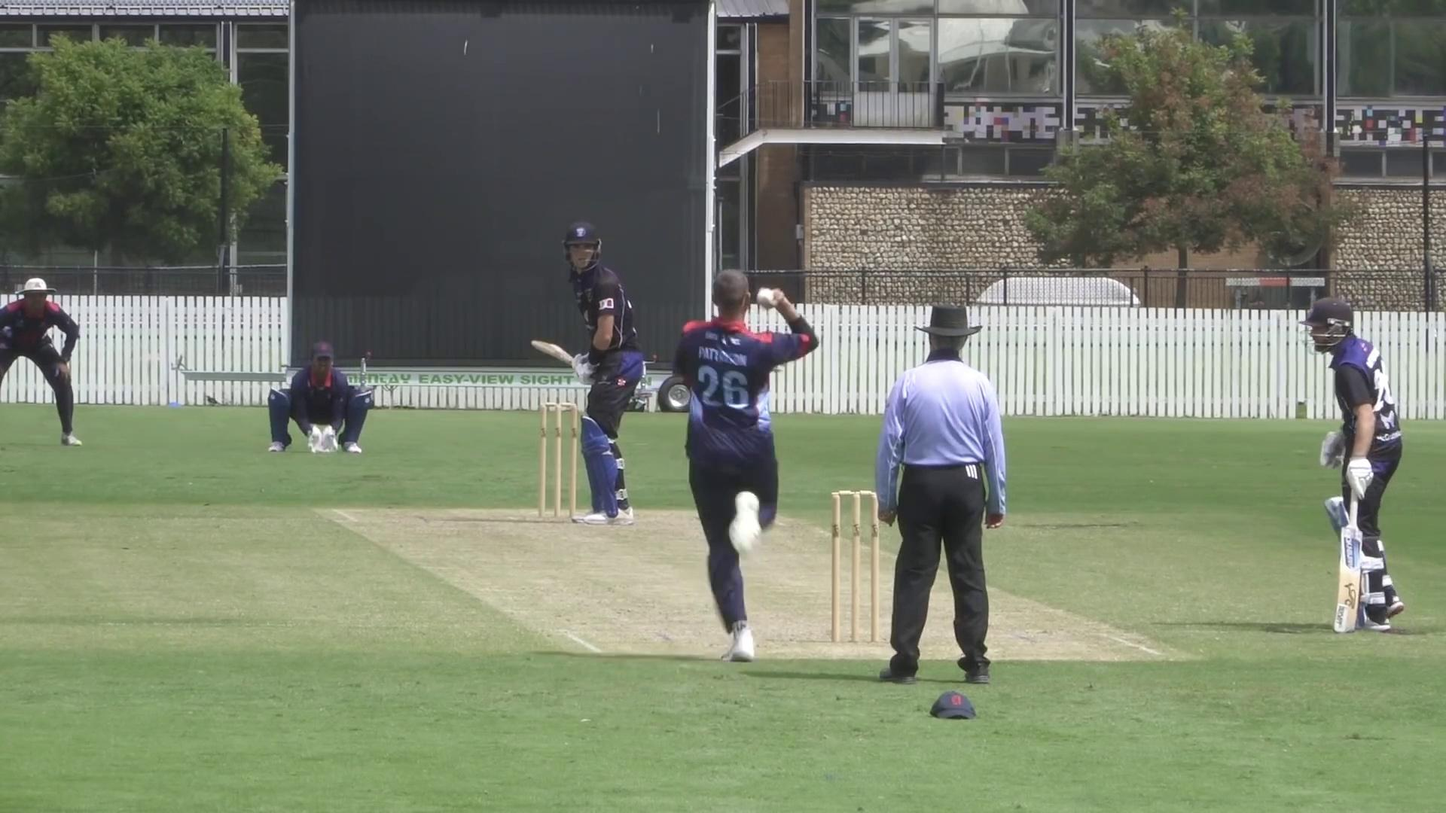ball: (753, 284, 782, 311)
